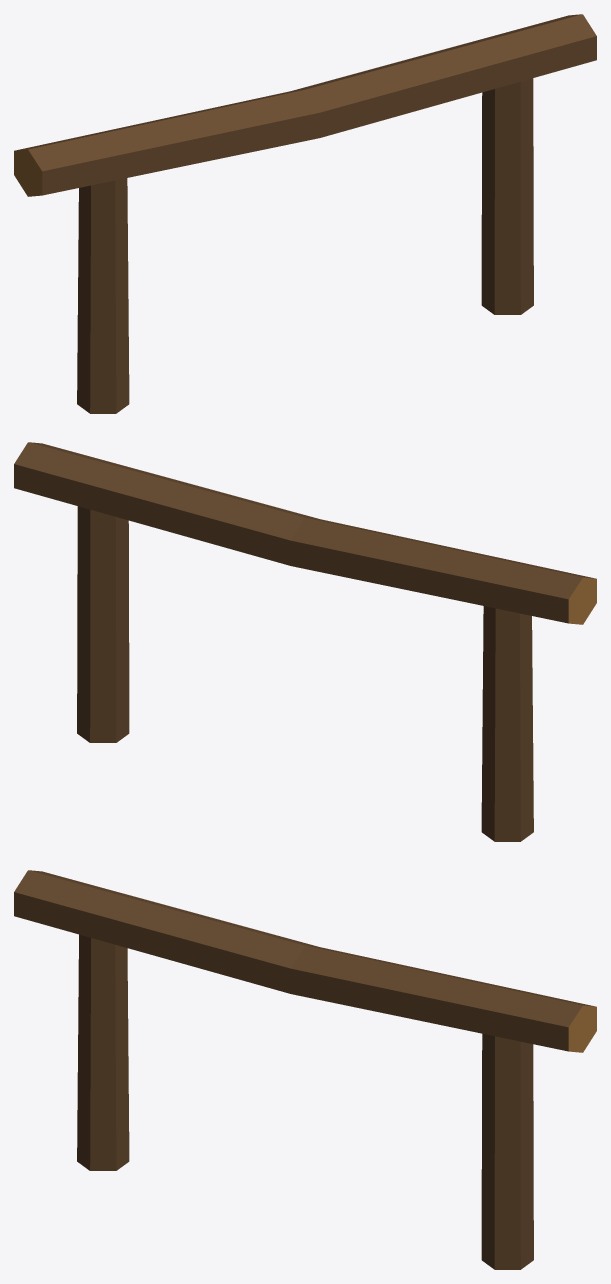
The model's file is western_horse-rest.fbx.
3 views of the same model, one above another, from view 1: azimuth 30°, elevation 25°; view 2: azimuth 150°, elevation 25°; view 3: azimuth 330°, elevation 25° (orthographic).
Parts seen in each view (by area): view 1: western_horse_rest; view 2: western_horse_rest; view 3: western_horse_rest.
Part boxes in pixels (x1=…): western_horse_rest: x1=14, y1=14, x2=596, y2=413; western_horse_rest: x1=14, y1=442, x2=596, y2=841; western_horse_rest: x1=14, y1=870, x2=596, y2=1269.
Bounding box in the file's own units: 200 × 94 × 18.3.
